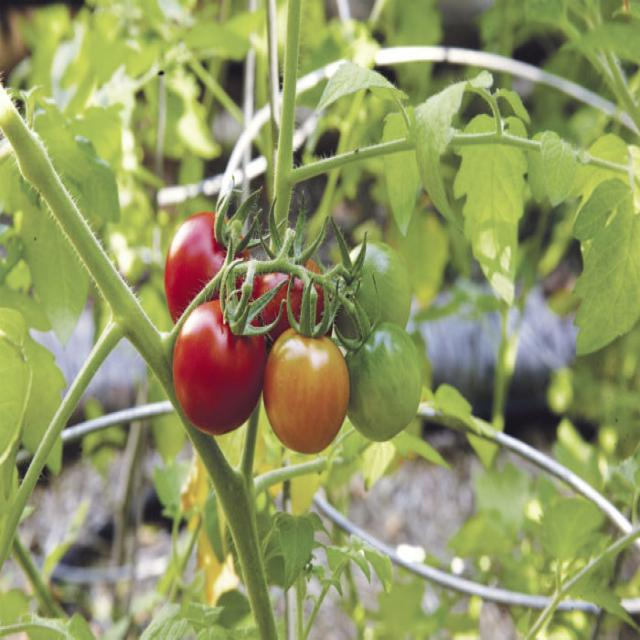level 2: (347, 316, 425, 450), (331, 233, 415, 351)
level 5: (264, 324, 351, 463)
level 6: (172, 292, 272, 438), (162, 209, 255, 338), (241, 252, 337, 354)
